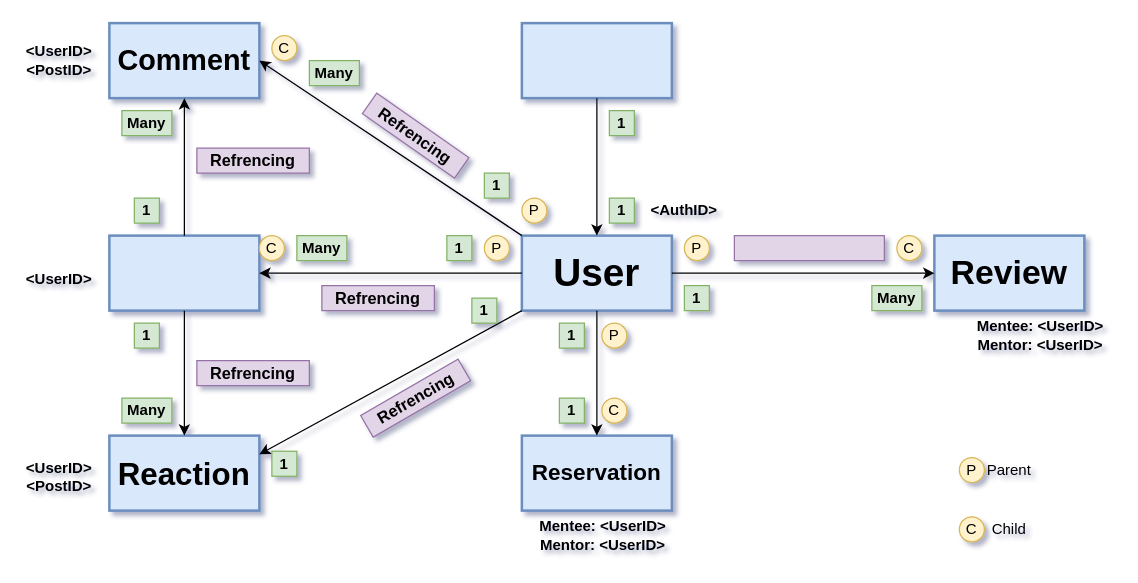
The diagram is 1138 pixels wide and 583 high, and some of its shapes have lost their labels. The shapes that lost their labels are listed below. From the top down, each one's box as (x1, y1, x2, y2) in pixels, then its label:
(520, 21, 672, 99): Auth
(733, 234, 884, 261): Parent Refrencing
(108, 234, 260, 311): Post
